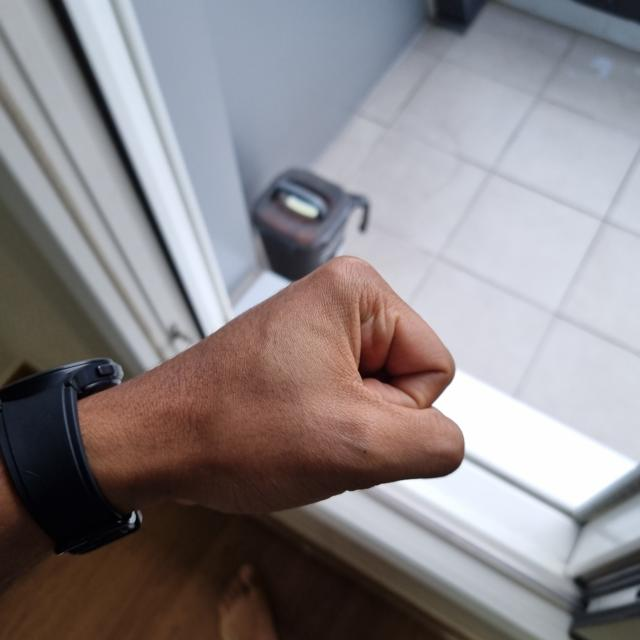Rock: (141, 255, 462, 510)
